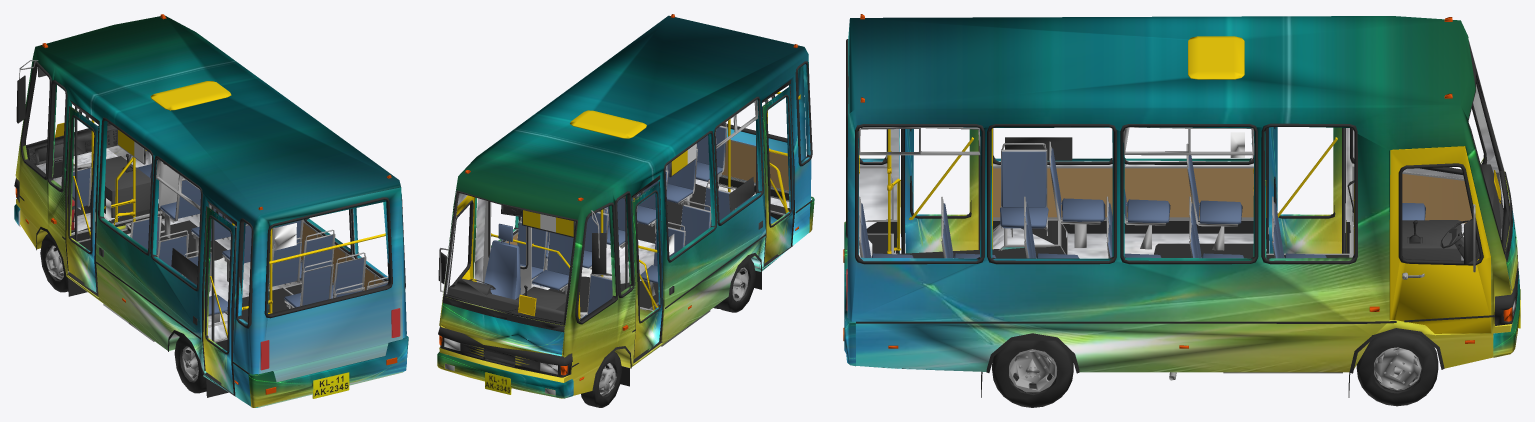
File: keralabus.glb
3 renders of one model, left to right at view 1: azimuth 30°, elevation 25°; view 2: azimuth 150°, elevation 25°; view 3: azimuth 270°, elevation 25°, orthographic. The views are drawn at different scales.
Parts seen in each view (by area): view 1: Object_1128, Object_1117, Object_1129, Object_602, Object_1119, Object_262, Object_1131, Object_399, Object_375, Object_1017, Object_382, Object_1051 (+32 smaller); view 2: Object_1128, Object_878, Object_602, Object_1129, Object_158, Object_1131, Object_1119, Object_564, Object_253, Object_594, Object_1017, Object_156 (+33 smaller); view 3: Object_1128, Object_594, Object_347, Object_1129, Object_602, Object_1119, Object_1131, Object_260, Object_272, Object_1103, Object_375, Object_393 (+24 smaller).
Boxes of the visible parts, x1,y1,x2,y2 form: Object_1128: [15, 15, 406, 407]; Object_1117: [248, 336, 408, 407]; Object_1129: [36, 145, 387, 339]; Object_602: [67, 203, 333, 396]; Object_1119: [66, 106, 98, 292]; Object_262: [78, 156, 150, 217]; Object_1131: [203, 207, 235, 393]; Object_399: [264, 197, 392, 318]; Object_375: [150, 81, 231, 110]; Object_1017: [26, 124, 117, 165]; Object_382: [20, 61, 51, 180]; Object_1051: [269, 243, 301, 286]; Object_1128: [439, 15, 811, 398]; Object_878: [441, 303, 564, 356]; Object_602: [548, 176, 792, 363]; Object_1129: [442, 179, 789, 324]; Object_158: [438, 326, 572, 377]; Object_1131: [762, 87, 793, 263]; Object_1119: [632, 182, 662, 358]; Object_564: [437, 352, 573, 398]; Object_253: [484, 239, 520, 299]; Object_594: [506, 141, 788, 245]; Object_1017: [447, 278, 564, 322]; Object_156: [443, 190, 577, 325]; Object_1128: [847, 16, 1511, 372]; Object_594: [993, 168, 1472, 223]; Object_347: [1389, 146, 1490, 333]; Object_1129: [859, 40, 1509, 260]; Object_602: [866, 220, 1353, 258]; Object_1119: [1268, 127, 1341, 253]; Object_1131: [905, 129, 978, 253]; Object_260: [1356, 331, 1438, 406]; Object_272: [992, 340, 1073, 407]; Object_1103: [1001, 151, 1046, 207]; Object_375: [1188, 36, 1244, 79]; Object_393: [1120, 124, 1258, 264].
Size of the model in its own units: 6.54 by 8.53 by 17.04.
Materials: 16 (3 with a texture image).
